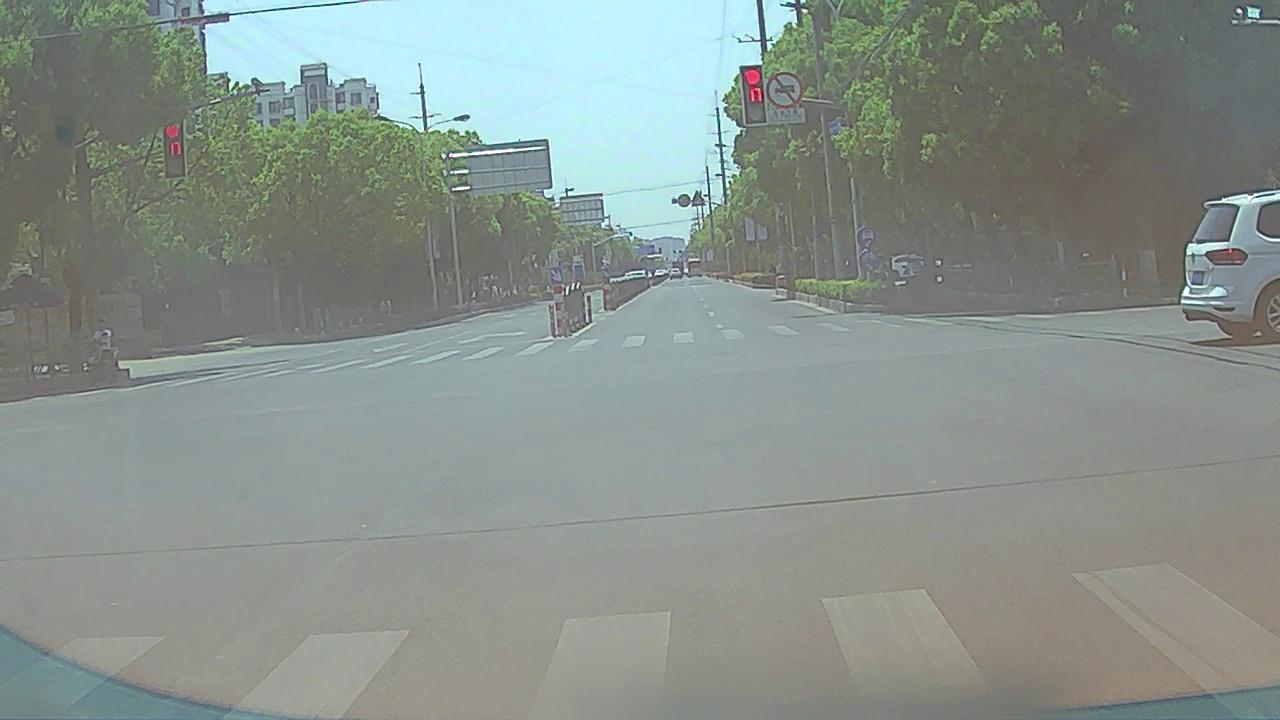traffic_light: (741, 67, 766, 125), (165, 123, 186, 175)
